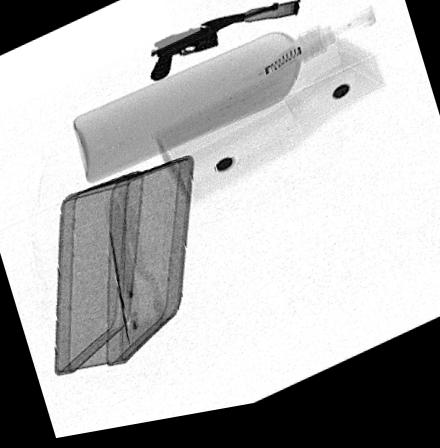Bullet: (199, 9, 297, 33)
Gun: (148, 12, 278, 87)
